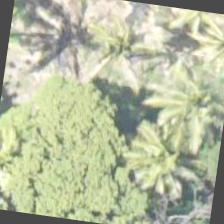Kelapa_Sawit: (68, 5, 170, 106), (124, 106, 224, 208), (142, 55, 223, 157), (0, 57, 57, 154), (0, 132, 46, 214)
